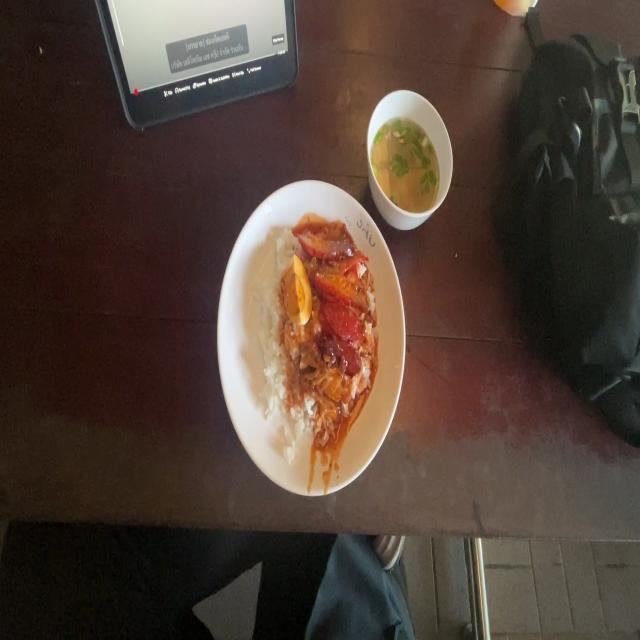red_pork_and_crispy_pork: (286, 258, 312, 323)
stir_fried_basil: (319, 299, 362, 365)
